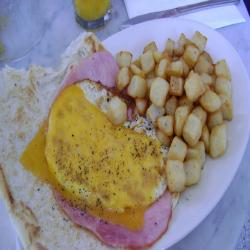burger: (5, 69, 174, 250)
